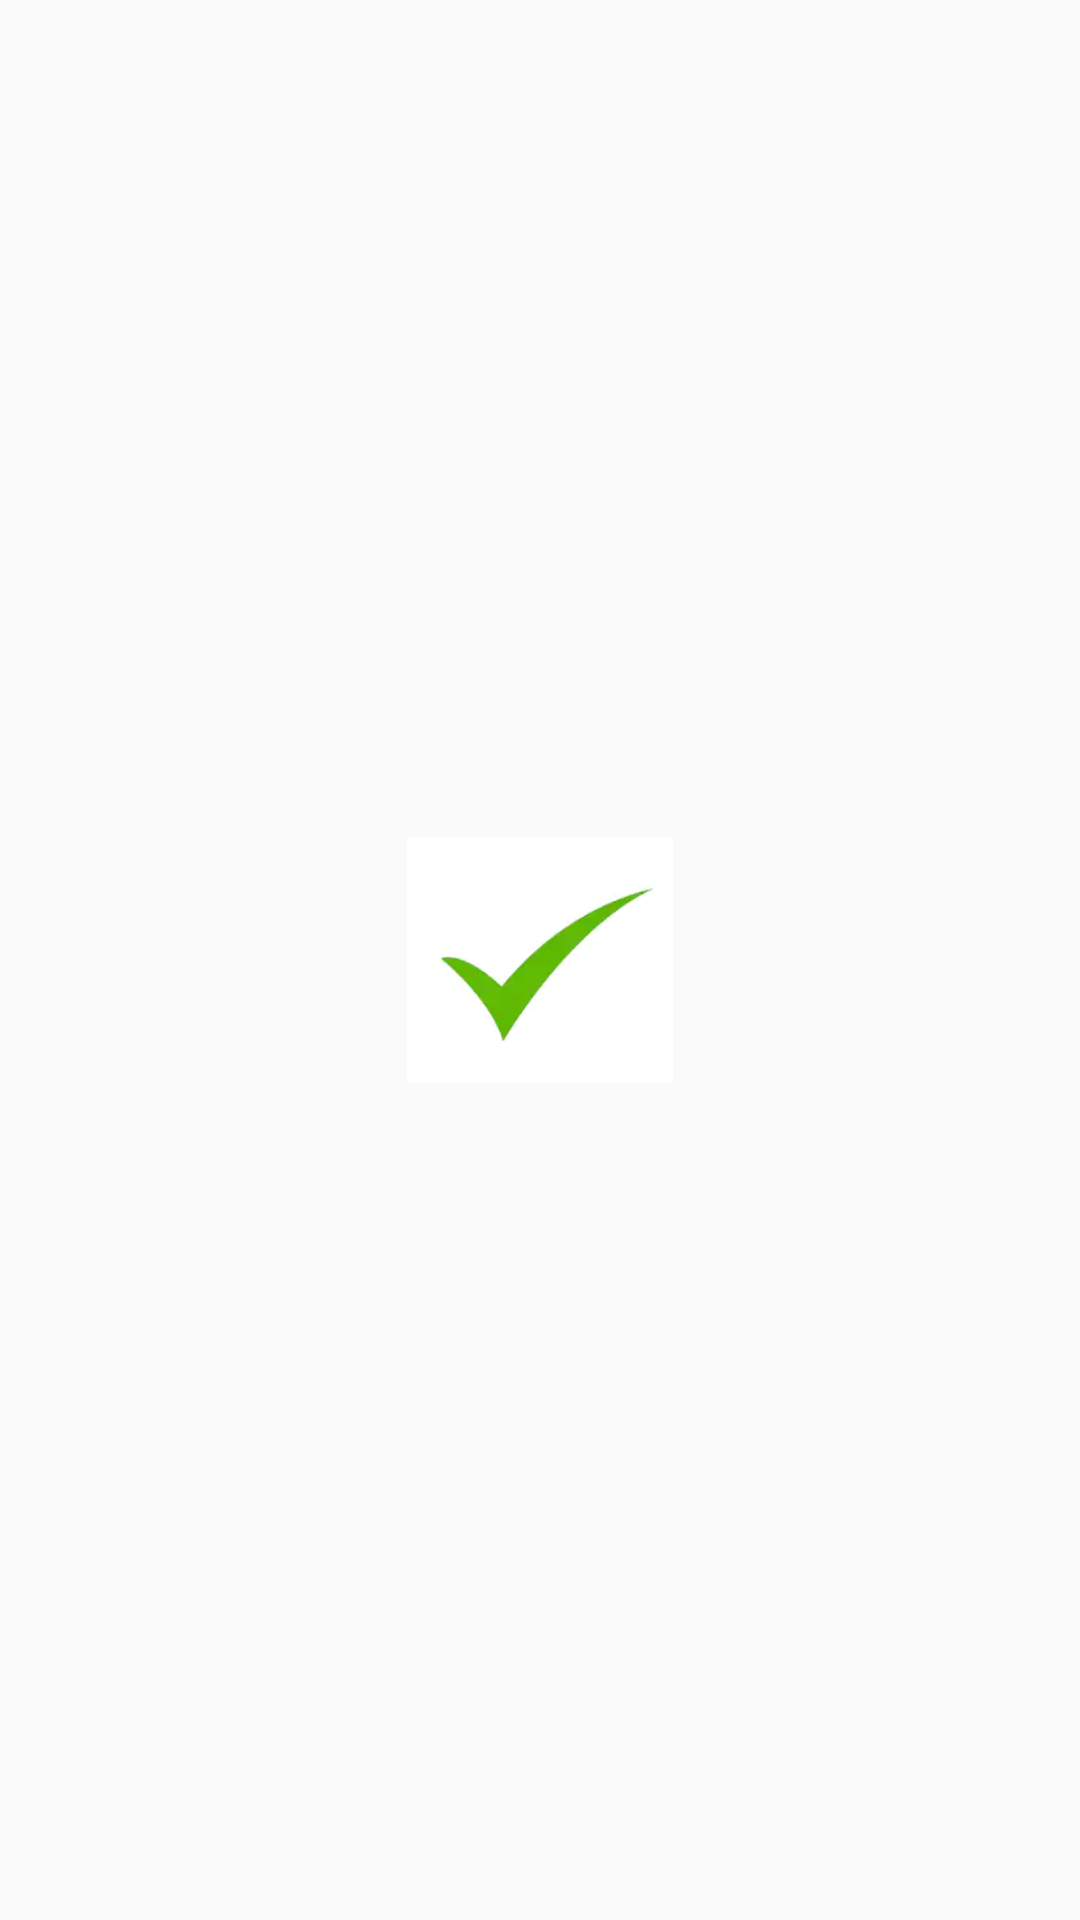

Where icons sit on this 1080px x 1920px app screen, as (x1, y1, x2, y2):
verdetickcorrecto: (441, 888, 653, 1041)
